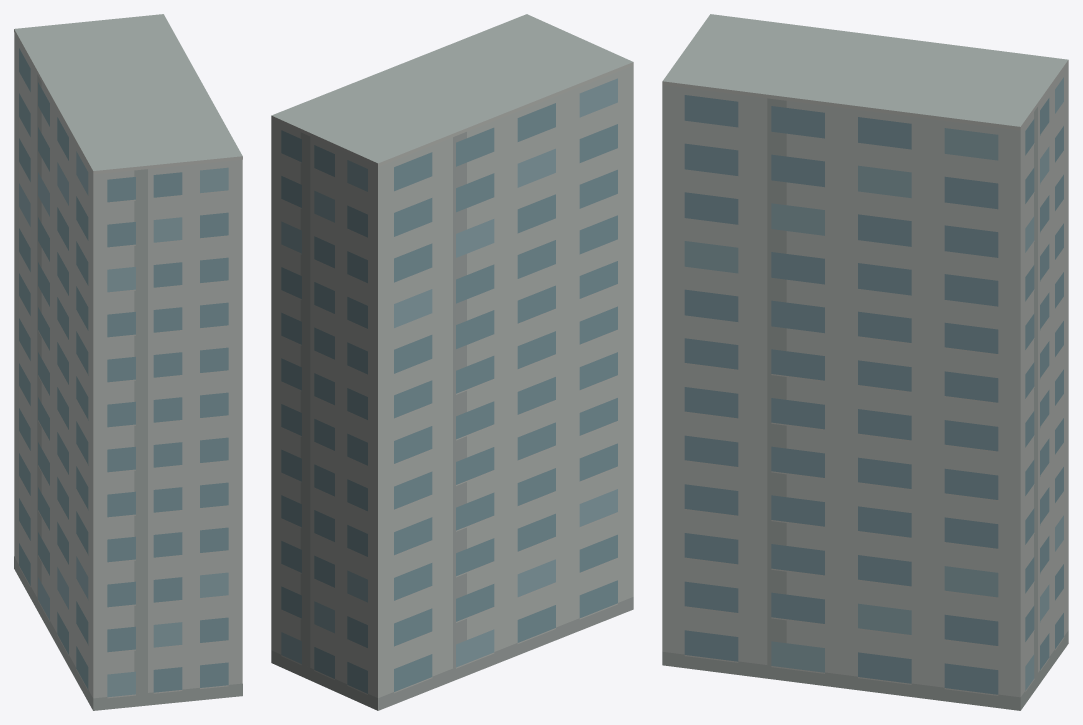
The model's file is residential-1619a213-d30b-4d76-9457-6807b2137ac0.glb.
3 renders of one model, left to right at view 1: azimuth 30°, elevation 25°; view 2: azimuth 150°, elevation 25°; view 3: azimuth 270°, elevation 25°, orthographic. The views are drawn at different scales.
Visible parts, largest first — view 1: residential-1619a213-d30b-4d76-9457-6807b2137ac0.tmp; view 2: residential-1619a213-d30b-4d76-9457-6807b2137ac0.tmp; view 3: residential-1619a213-d30b-4d76-9457-6807b2137ac0.tmp.
Part boxes in pixels (bbox=[...]): residential-1619a213-d30b-4d76-9457-6807b2137ac0.tmp: bbox=[14, 14, 242, 710]; residential-1619a213-d30b-4d76-9457-6807b2137ac0.tmp: bbox=[271, 14, 633, 710]; residential-1619a213-d30b-4d76-9457-6807b2137ac0.tmp: bbox=[662, 14, 1068, 710].
Bounding box in the file's own units: 15.76 × 38 × 23.96.
